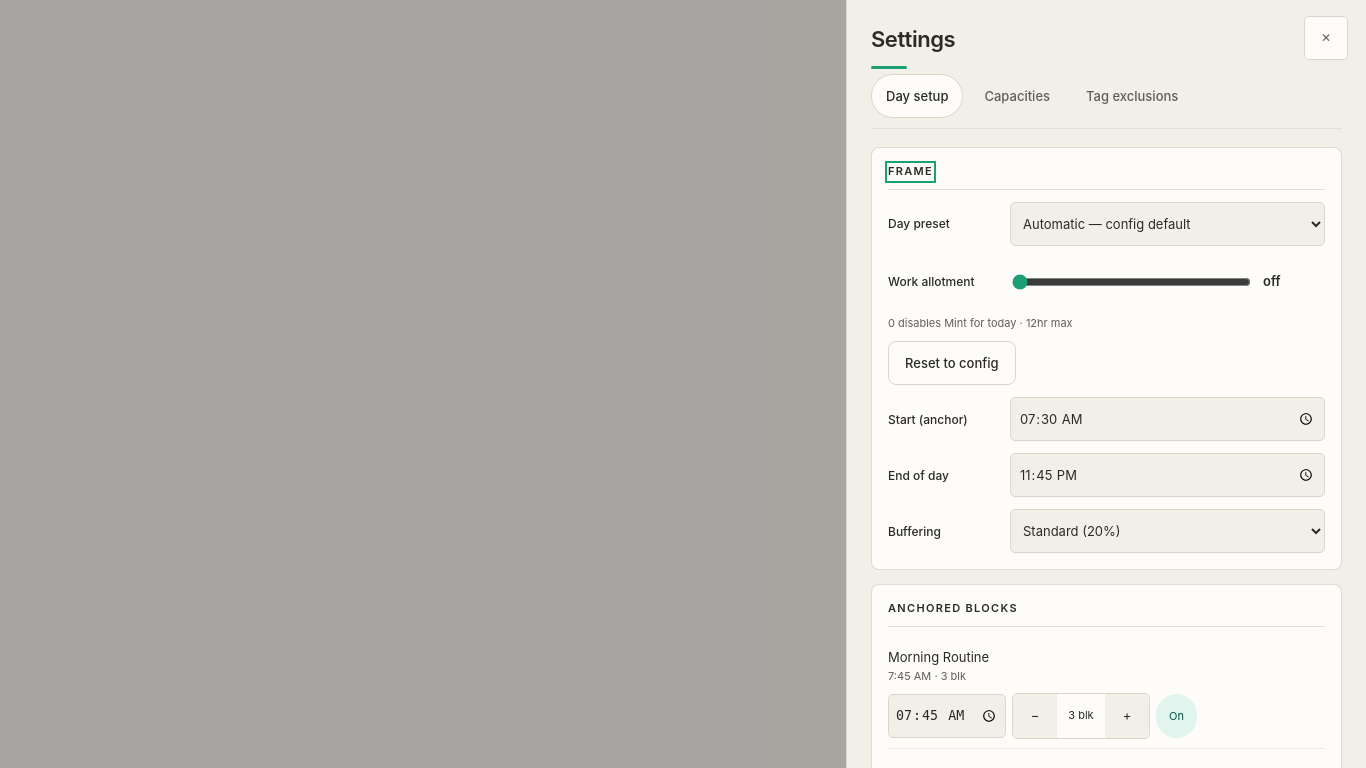
Test: T12 anchored-block adjustment › Day Setup exposes 30-minute anchored duration controls including zero
Click the button named "Shorten Morning Routine". click: (1035, 716)
box: [1013,694,1057,738]
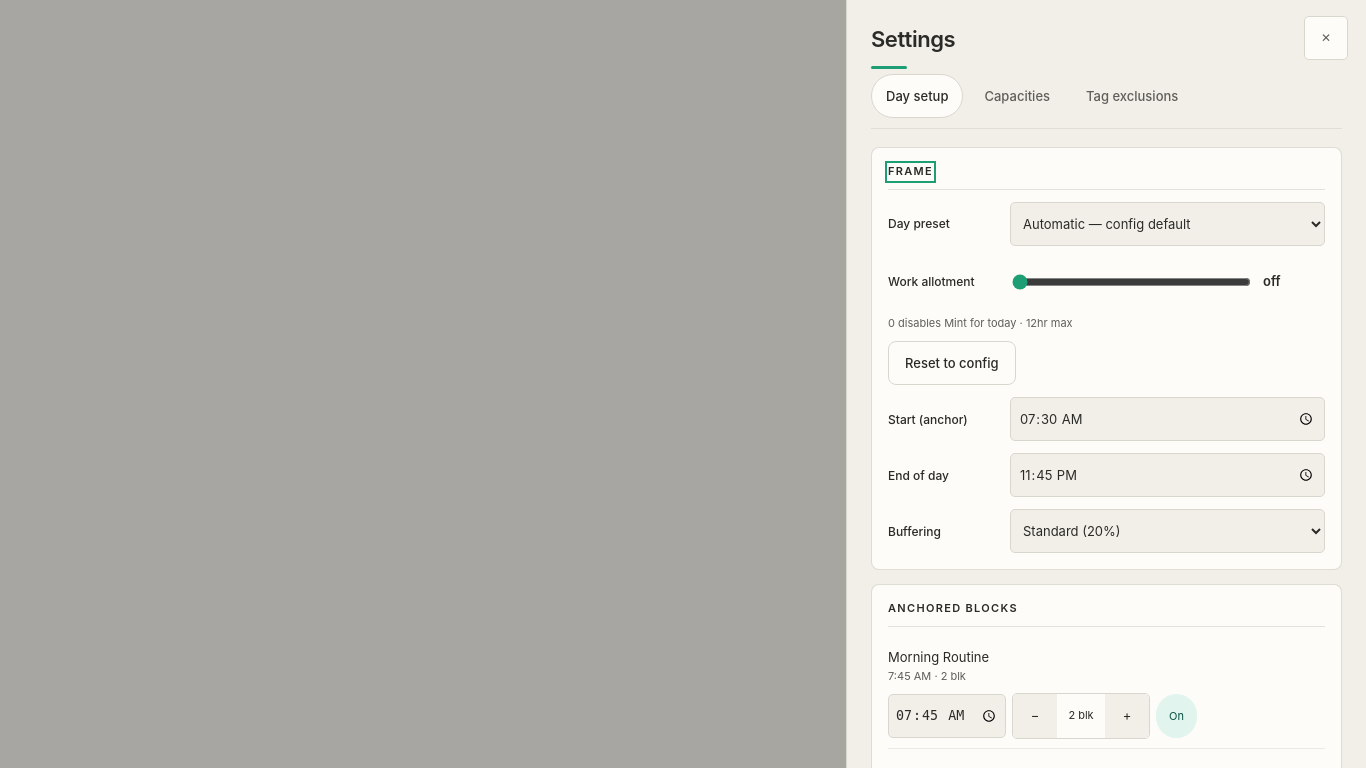
Click the button named "Shorten Morning Routine". click: (1035, 716)
box: [1013,694,1057,738]
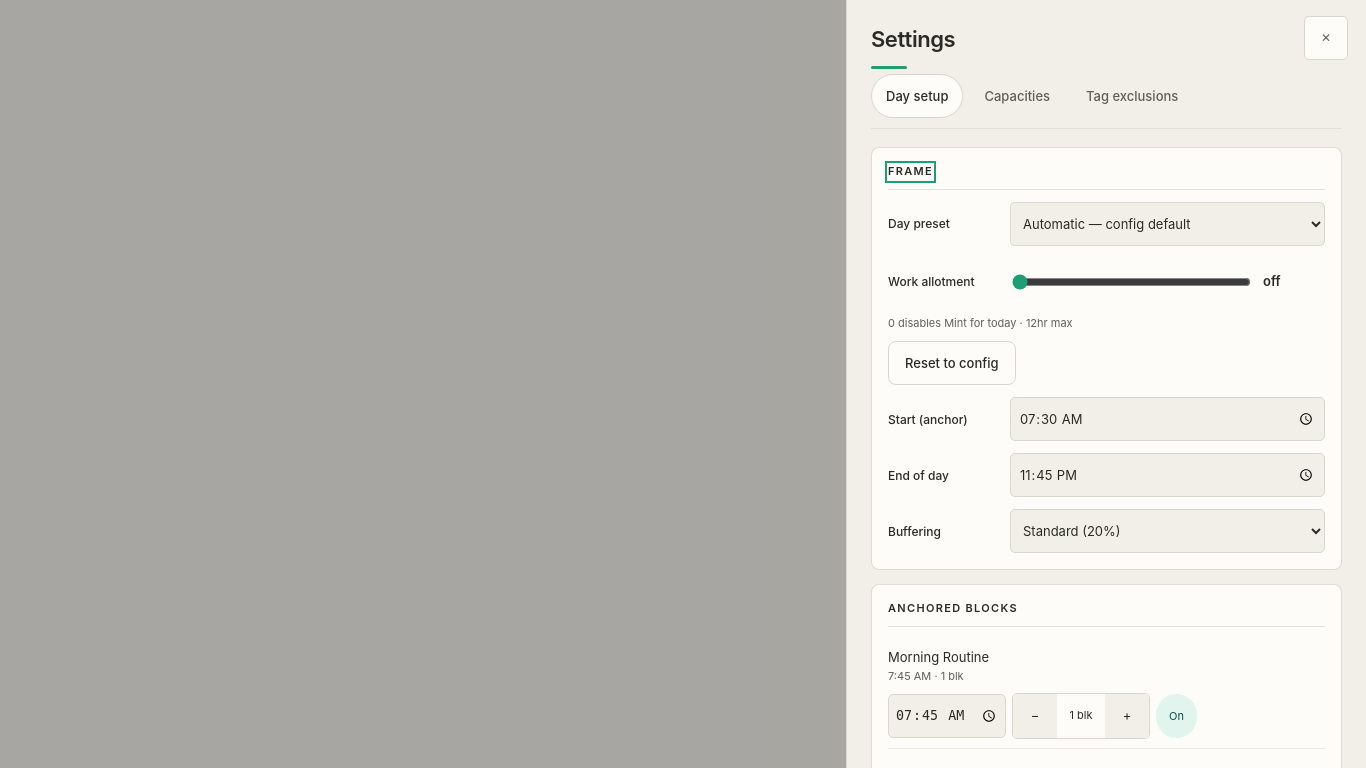
Click the button named "Shorten Morning Routine". click: (1035, 716)
box: [1013,694,1057,738]
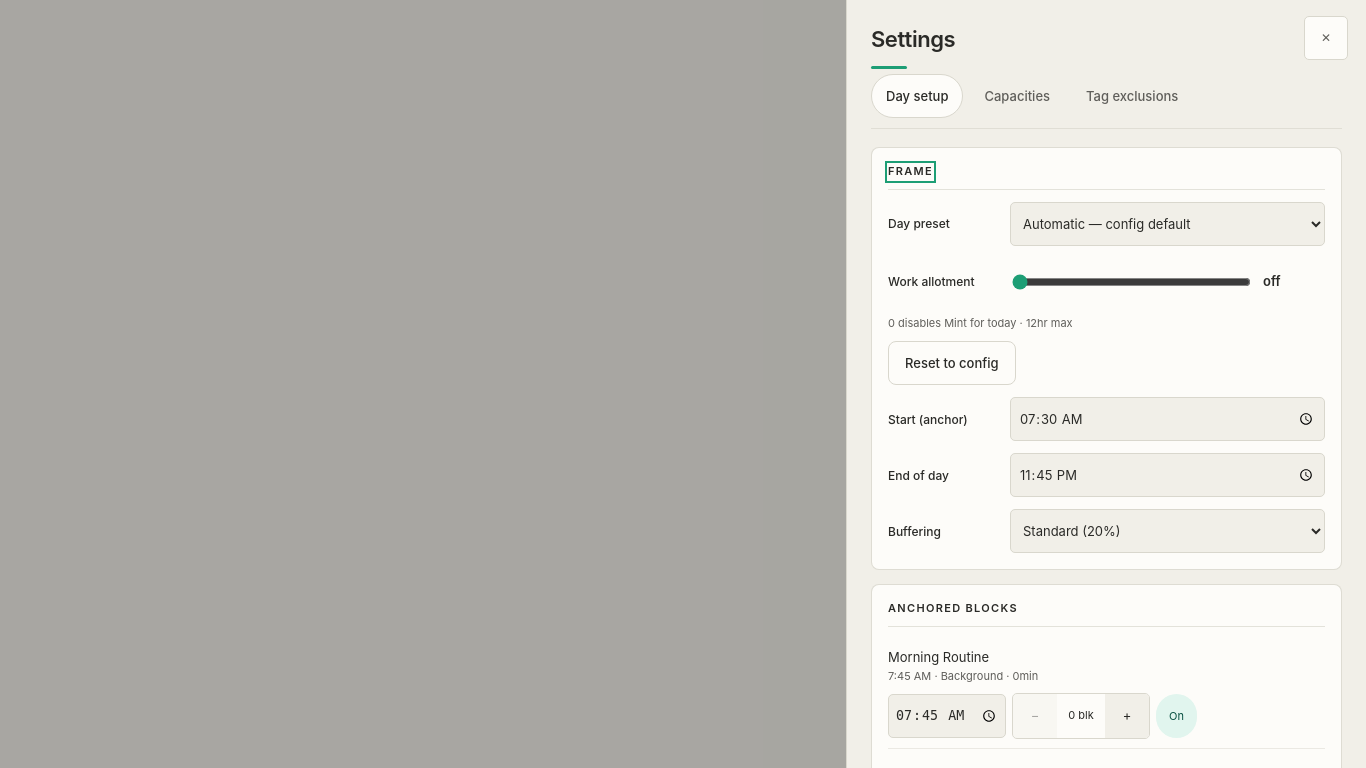
Result: the text "7:45 AM · Background · 0min" is shown at [888,669,1038,683]
